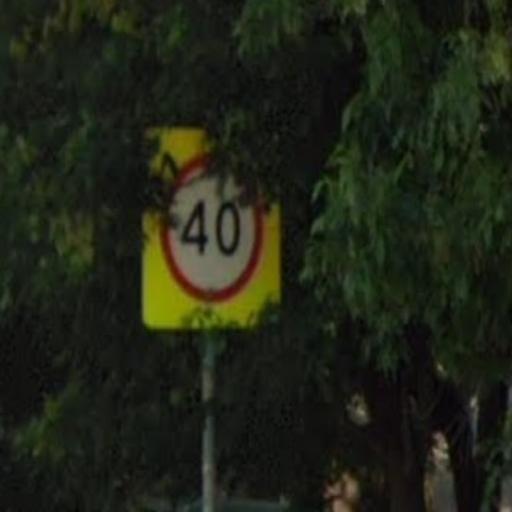traffic_sign: (159, 151, 265, 305)
